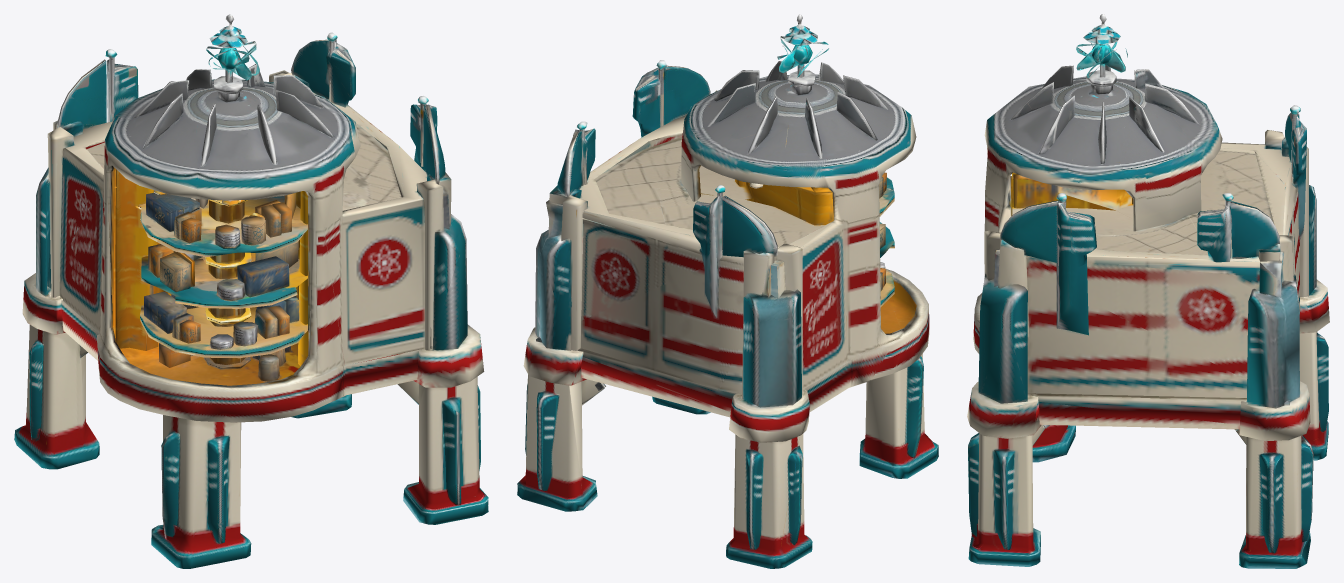
Rendered from storage.fbx.
The picture shows the model from 3 angles, left to right: view 1: azimuth 30°, elevation 25°; view 2: azimuth 150°, elevation 25°; view 3: azimuth 270°, elevation 25°; orthographic projection. The views are drawn at different scales.
Visible parts, largest first — view 1: Mesh_0; view 2: Mesh_0; view 3: Mesh_0.
Part boxes in pixels (box(x1,y1,x2,y2)): Mesh_0: box(14, 14, 488, 568); Mesh_0: box(517, 14, 938, 568); Mesh_0: box(967, 14, 1329, 568).
Size of the model in its own units: 65.72 by 95.07 by 67.33.
1 material, 1 textured.
